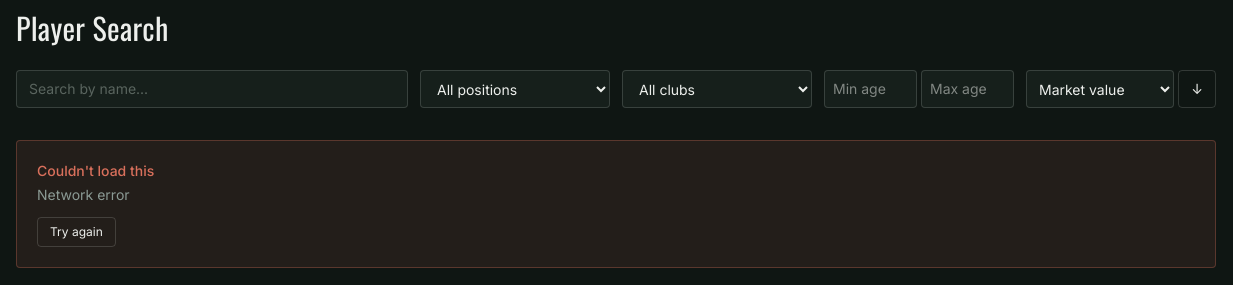
Test: PlayerSearch › shows an error state when the request fails, with a working retry
The width and height of the screenshot is (1233, 285).
Check: the text "Network error" is shown, box [37, 186, 130, 203]
Click the button "Try again". click: (76, 232)
box: [37, 217, 116, 247]
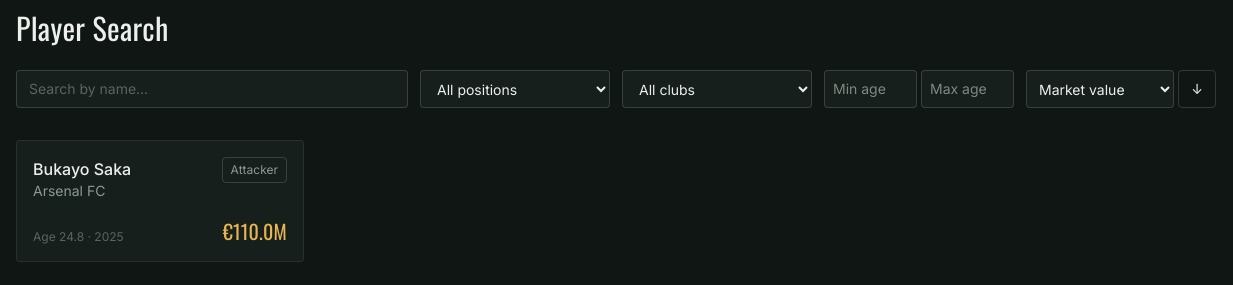
Check: the text "Bukayo Saka" is shown, box [33, 157, 131, 181]
